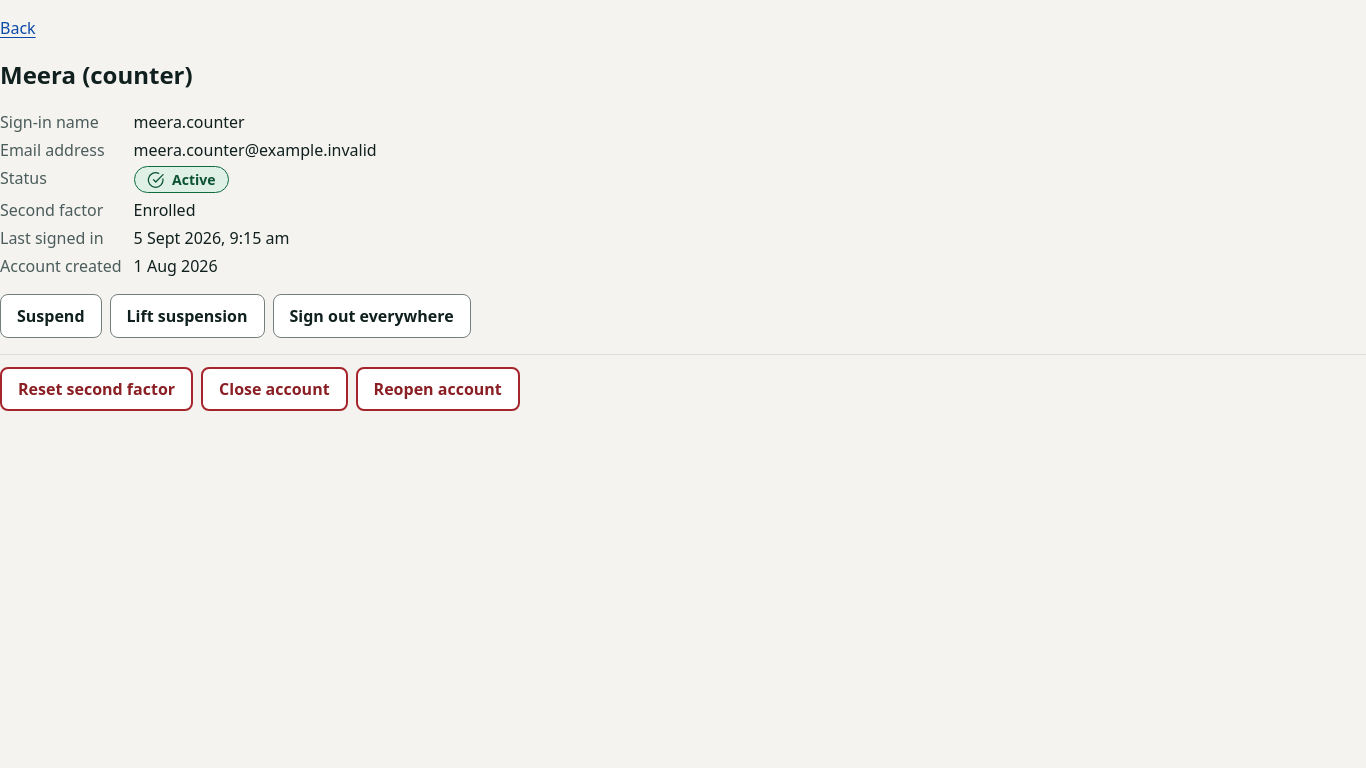
it: says what suspending does to the person before the control is pressed
The width and height of the screenshot is (1366, 768).
Expected: the heading "Meera (counter)" is shown, [0, 58, 193, 91]
Click the button "Suspend": click(51, 316) [0, 294, 102, 338]
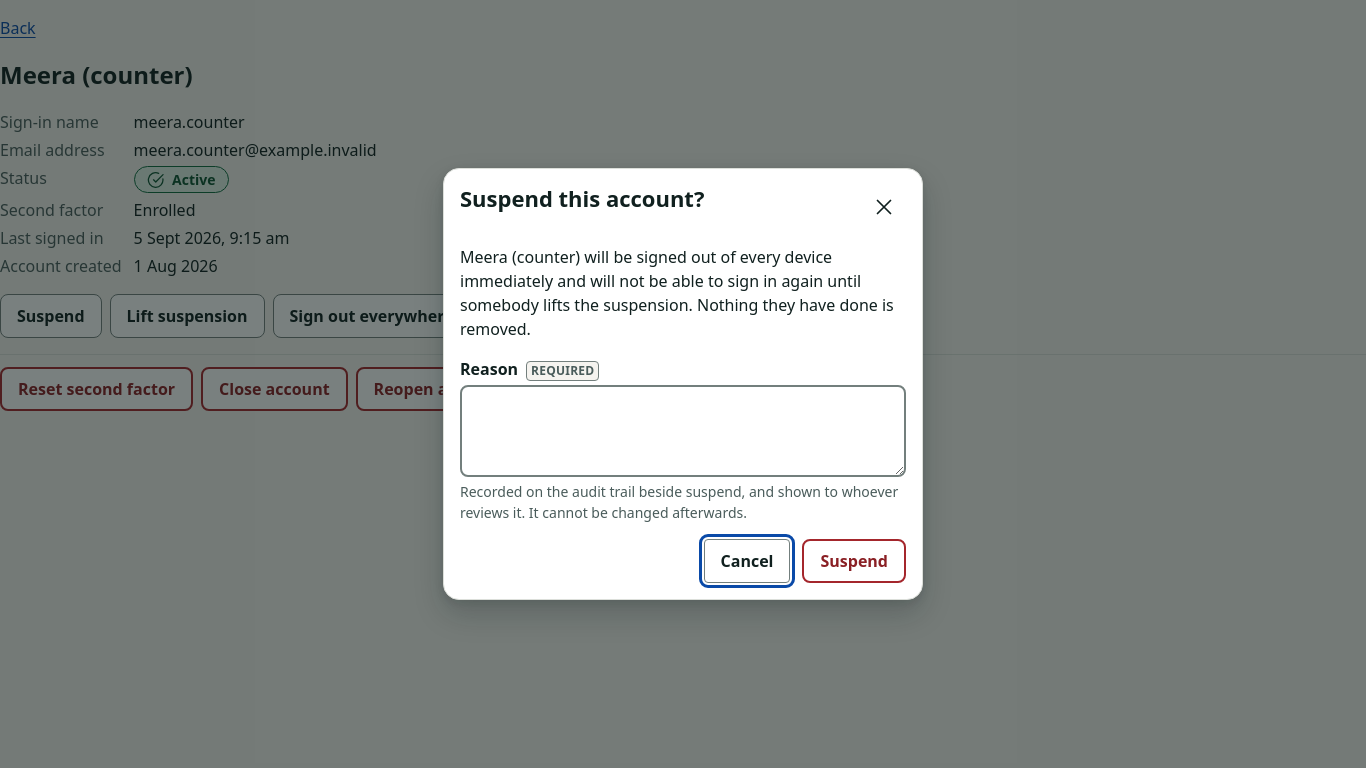
Result: the text "signed out of every device immediately" is shown at [460, 246, 894, 340]
